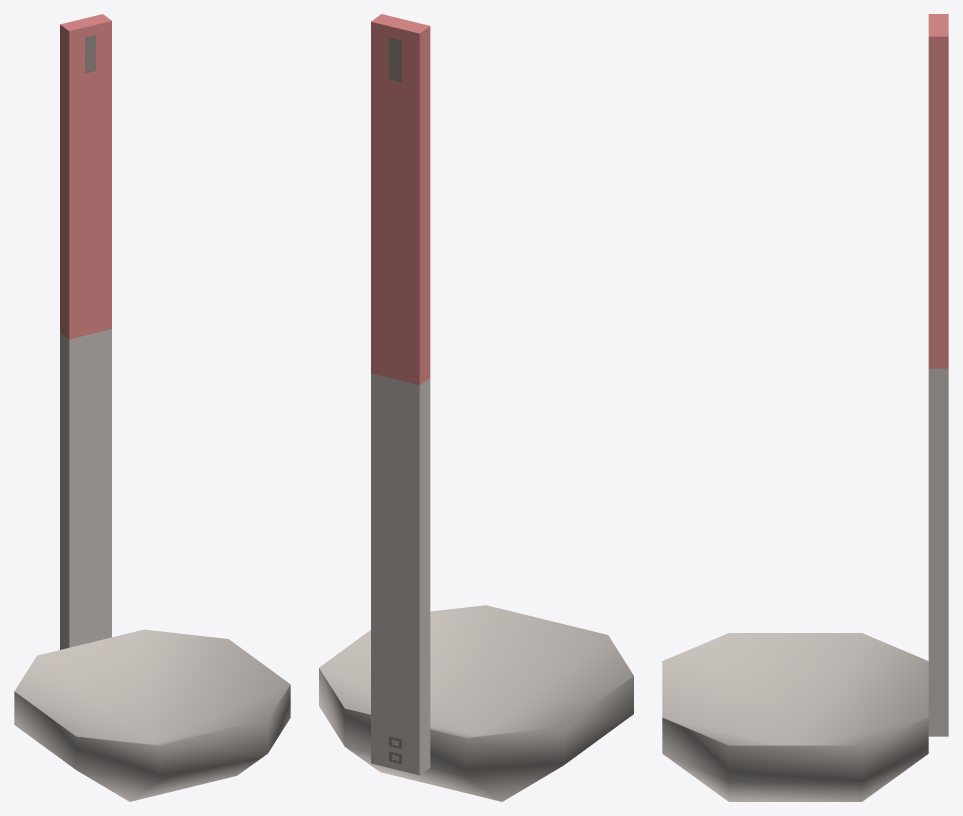
File: 0037_Ladle.glb
The picture shows the model from 3 angles, left to right: view 1: azimuth 30°, elevation 25°; view 2: azimuth 150°, elevation 25°; view 3: azimuth 270°, elevation 25°; orthographic projection. The views are drawn at different scales.
Parts seen in each view (by area): view 1: part_0; view 2: part_0; view 3: part_0.
Boxes of the visible parts, x1,y1,x2,y2 form: part_0: (14,14,290,801); part_0: (319,14,633,801); part_0: (662,14,948,801).
Size of the model in its own units: 0.08 by 0.248 by 0.086.
Materials: 1 (1 with a texture image).
